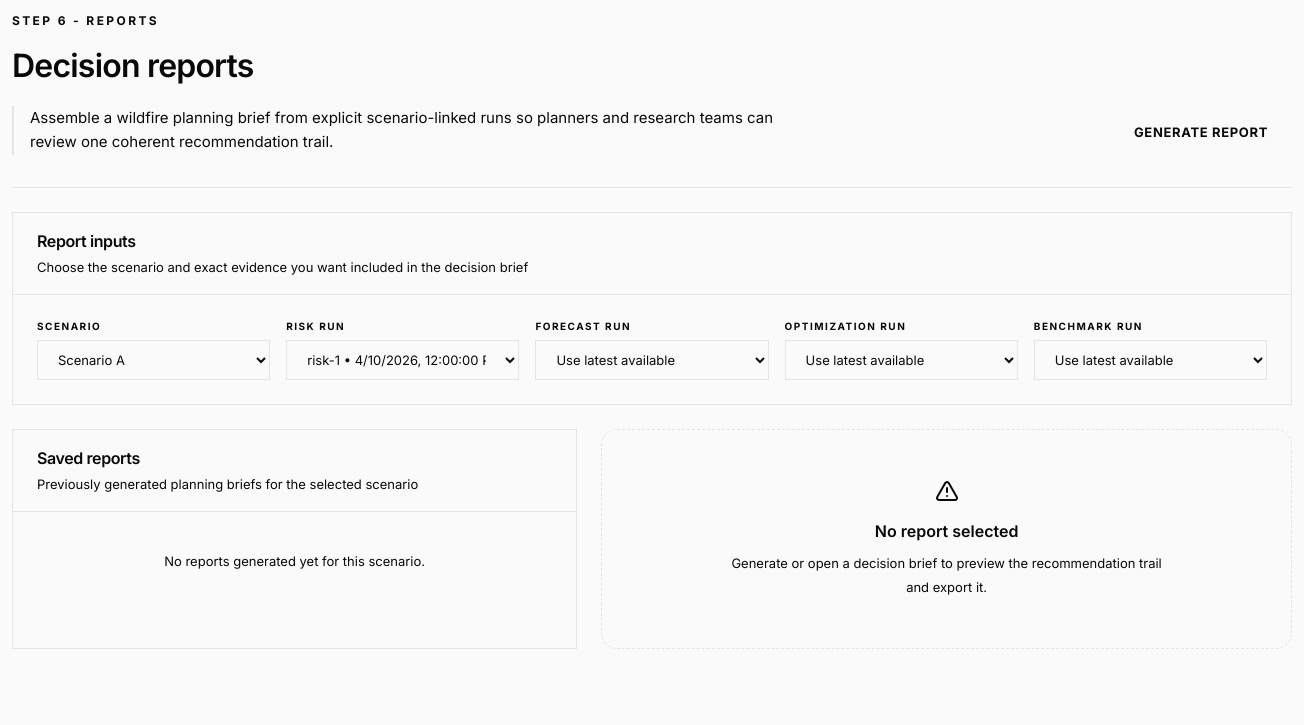
Test: ReportsPage › uses explicit run selections when generating a report
Check: the heading "Decision reports" is shown, box [12,46,254,85]
Click the button "Generate report".
click(1201, 133)  # box [1110,111,1292,155]
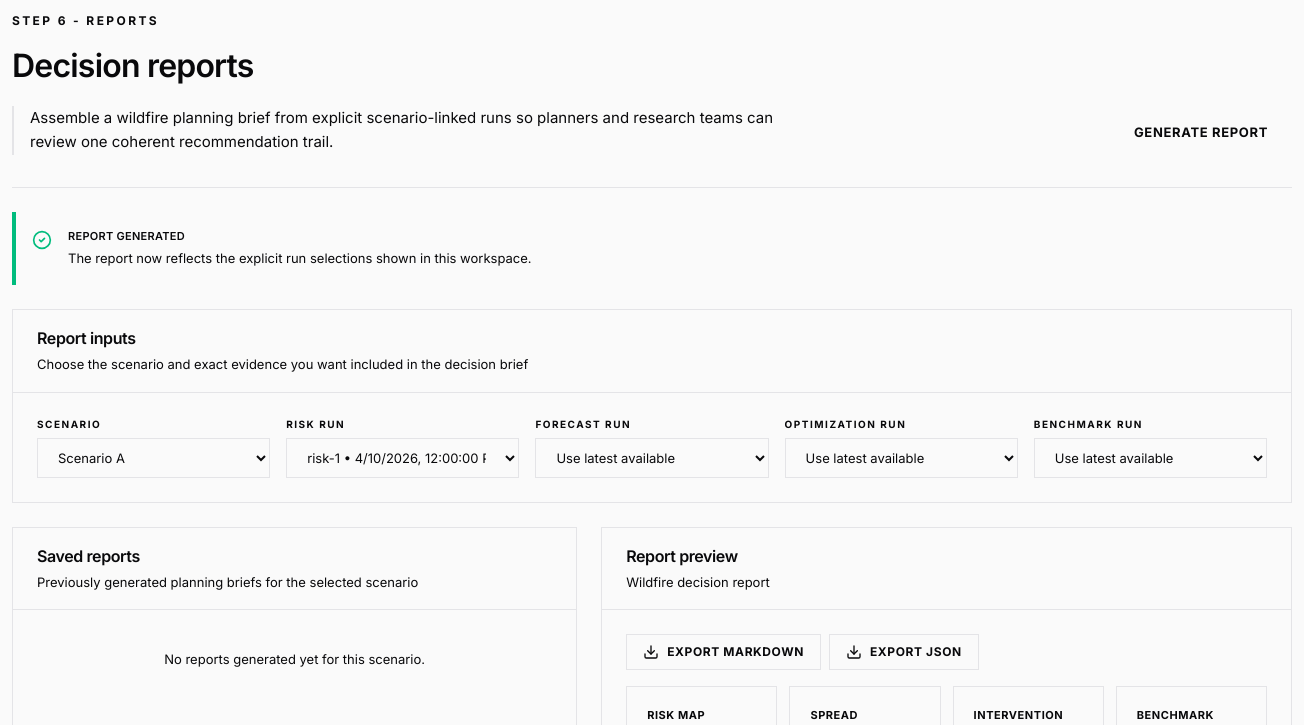
Check: the text "Wildfire decision report" is shown, box [626,574,770,590]
